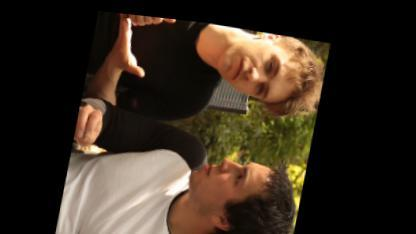knife: (134, 12, 209, 35)
